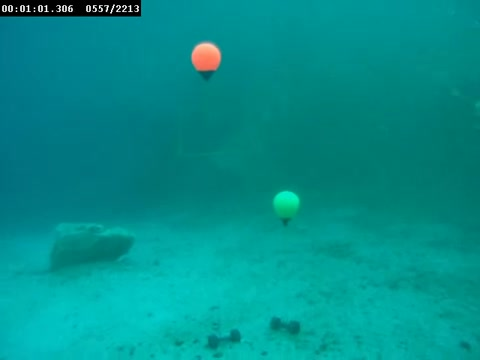buoy_green: (272, 187, 301, 228)
buoy_red: (188, 40, 220, 81)
